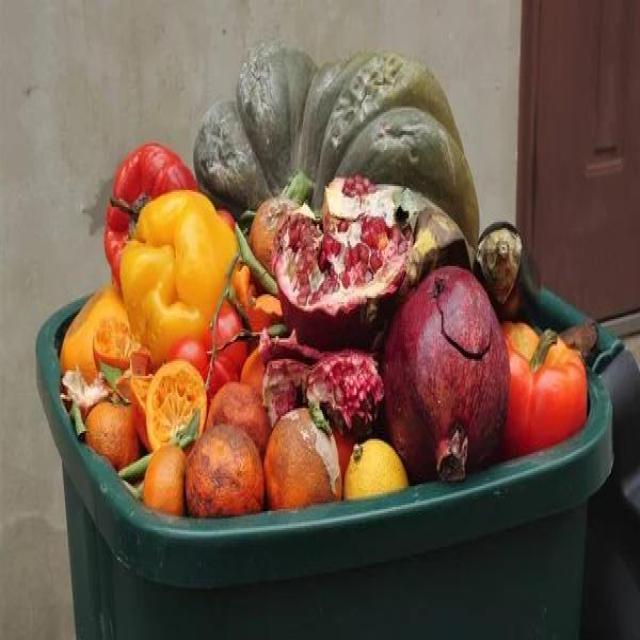Garbage: (52, 46, 602, 525)
